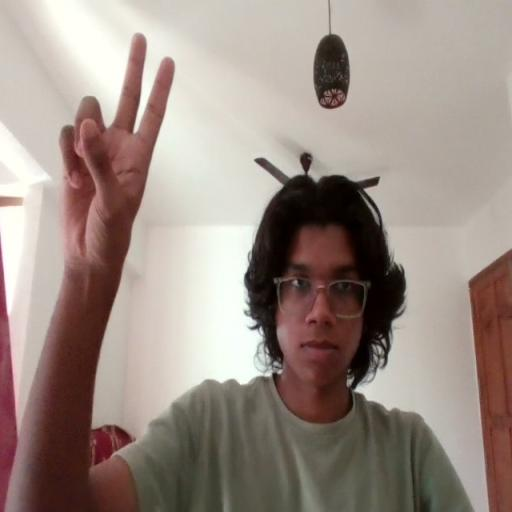scissor: (55, 32, 175, 259)
